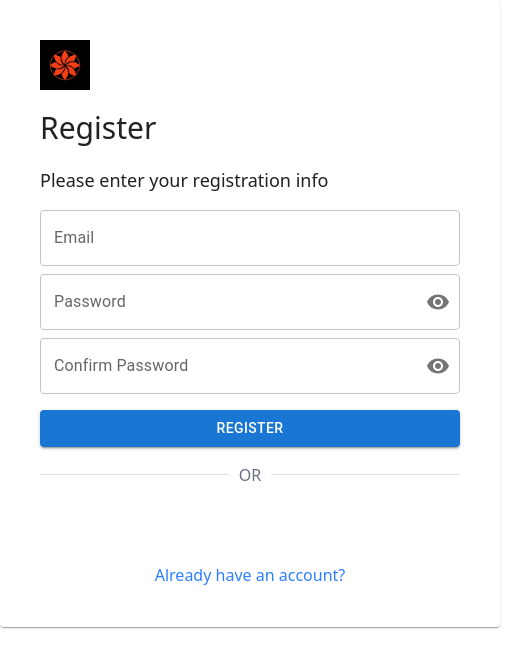
SignUpPage - User Flows › Form Validation › shows error for invalid email format
In the field labelled "Email": (250, 238) top-left (40, 210), bottom-right (460, 266), type "not-an-email"
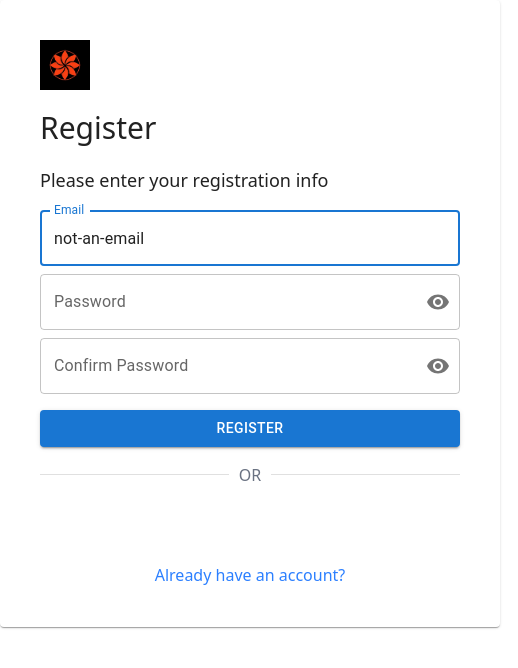
In the password field labelled "Password": (225, 302) top-left (40, 274), bottom-right (410, 330), type "password123"
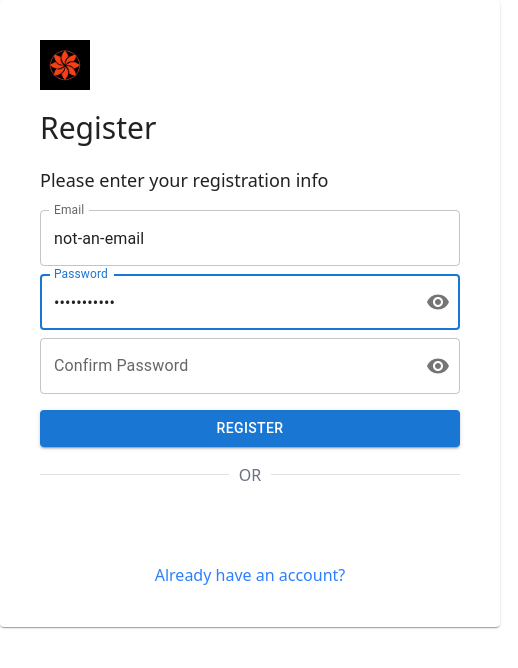
In the password field labelled "Confirm Password": (225, 366) top-left (40, 338), bottom-right (410, 394), type "password123"
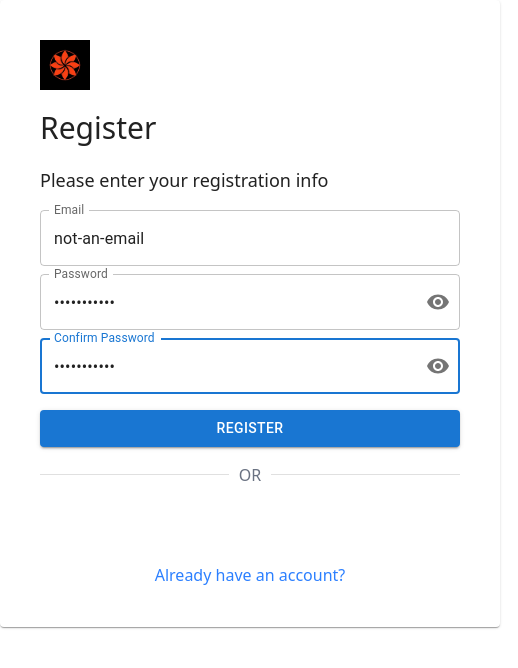
Click the button "Register": (250, 428) top-left (40, 410), bottom-right (460, 446)
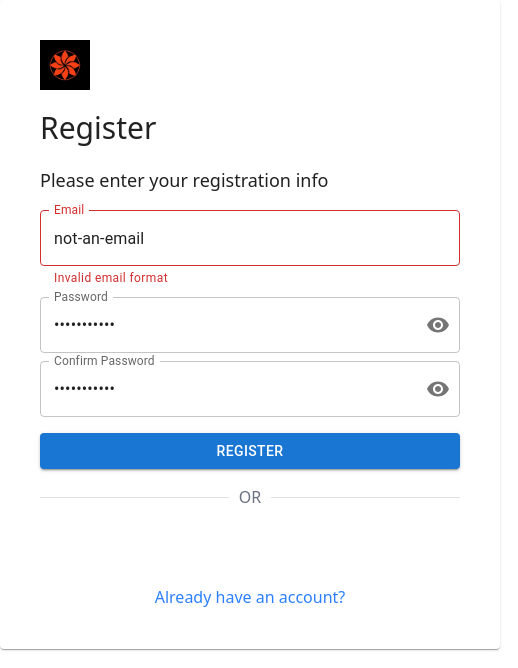
Check: the text "Invalid email format" is shown, box top-left (54, 271), bottom-right (168, 285)
